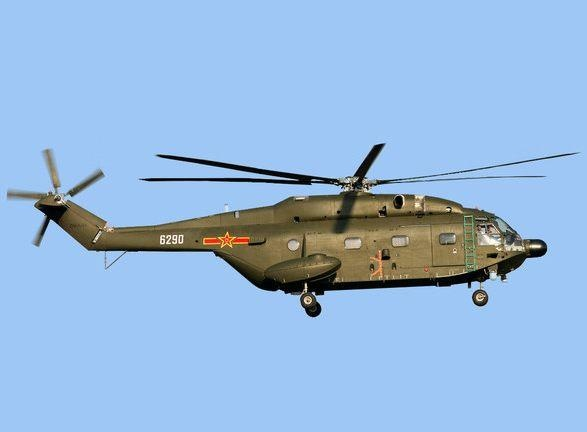airplane: (10, 137, 586, 319)
